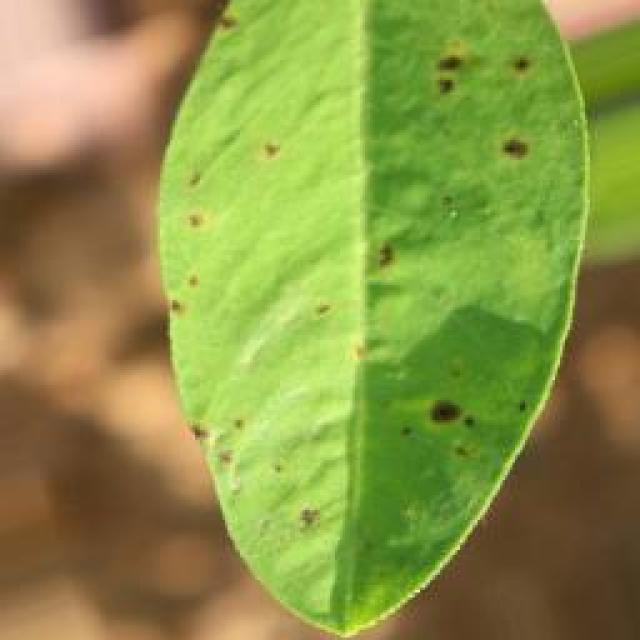Sigatoka: (389, 0, 521, 173), (144, 375, 263, 493), (416, 358, 496, 457), (239, 116, 314, 195), (275, 447, 339, 536), (161, 156, 220, 242), (351, 205, 422, 266), (312, 258, 355, 354), (152, 261, 208, 320)
